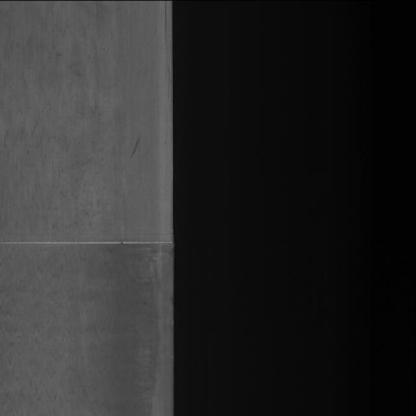welding_line: (0, 223, 186, 258)
